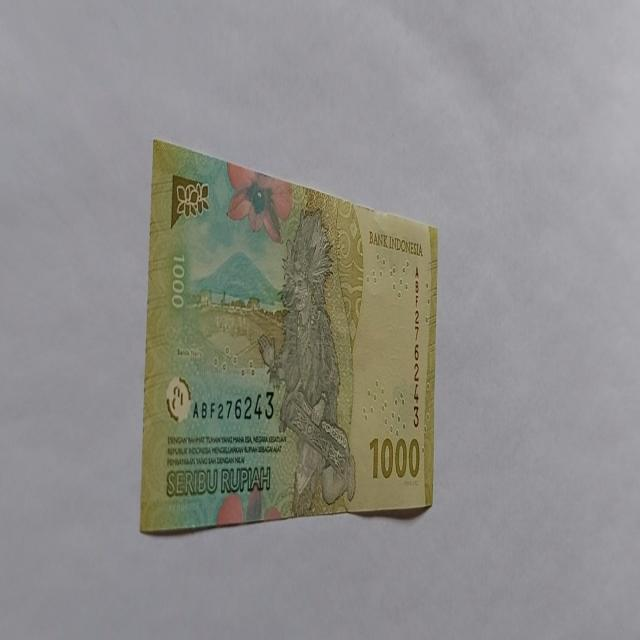seribu rupiah kertas: (139, 136, 439, 534)
